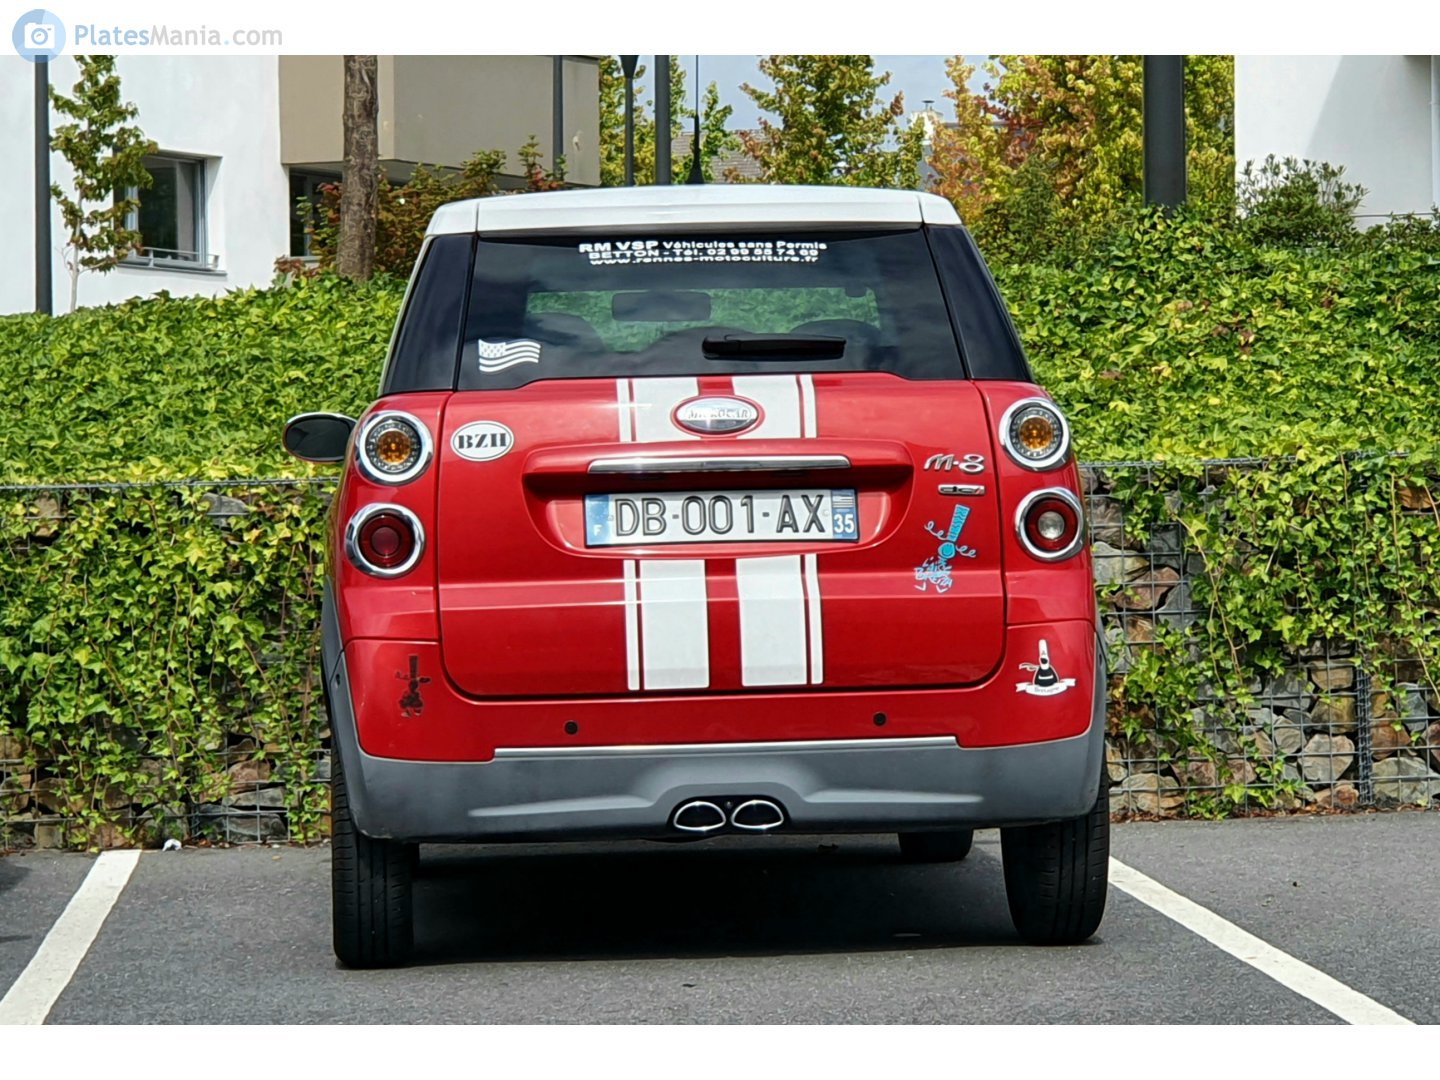licence plate: (577, 487, 862, 547)
